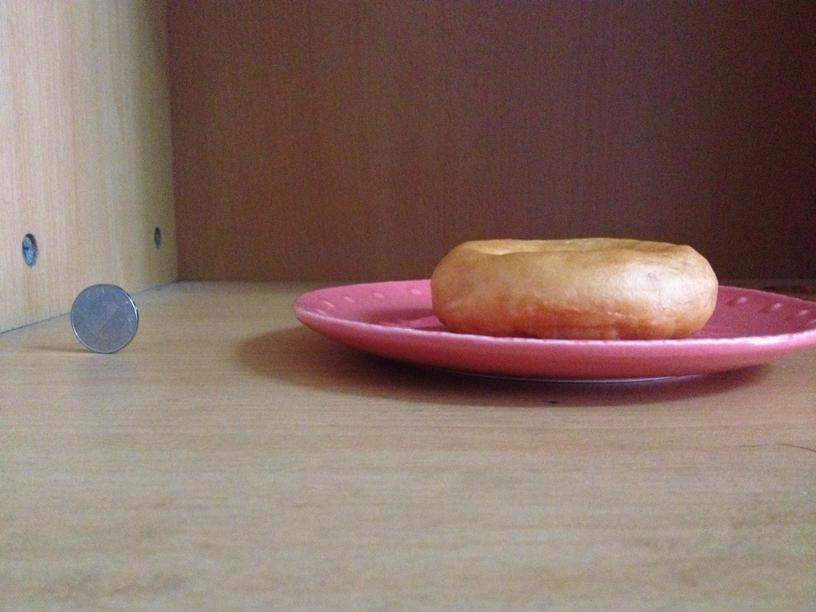coin: (432, 232, 718, 340)
doughnut: (432, 232, 718, 340)
